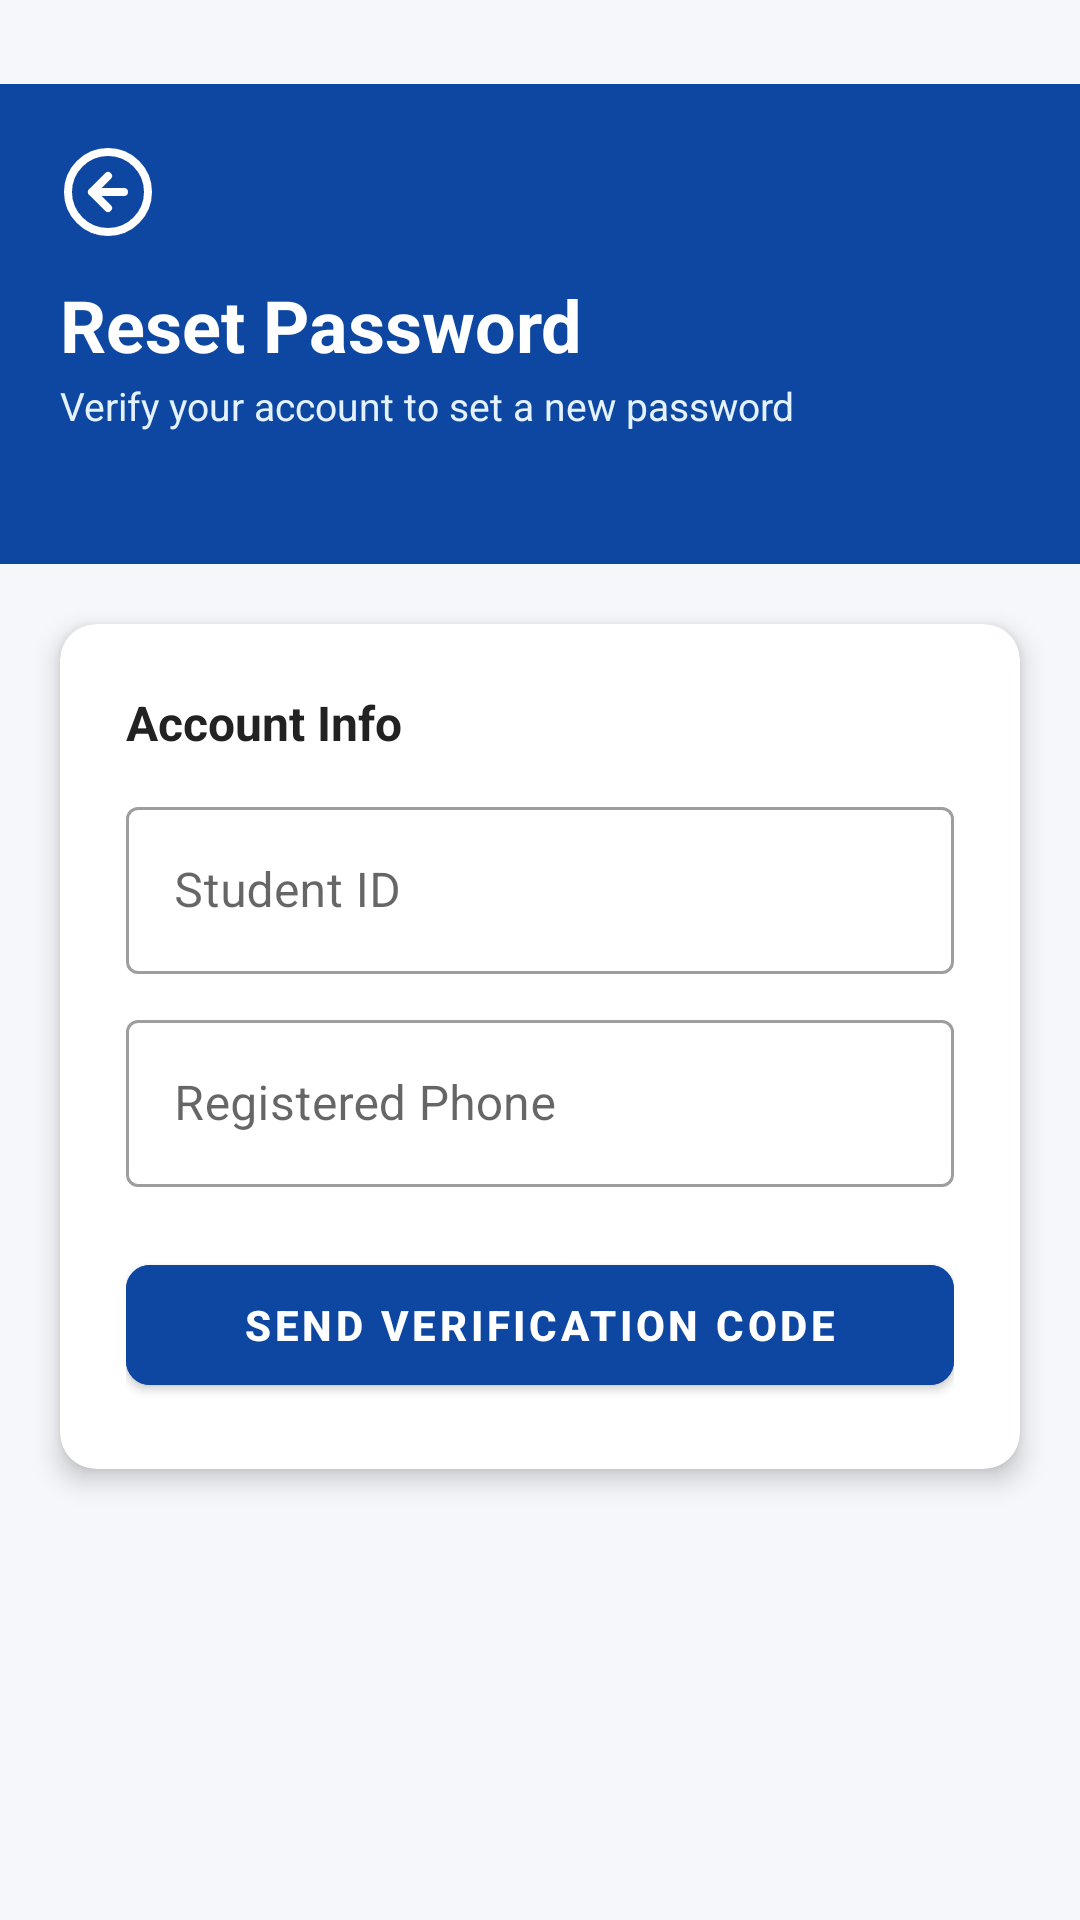

Point at icon controls on the screen. Image size 1080*1920, points as [x,y].
Back: [108,192]
